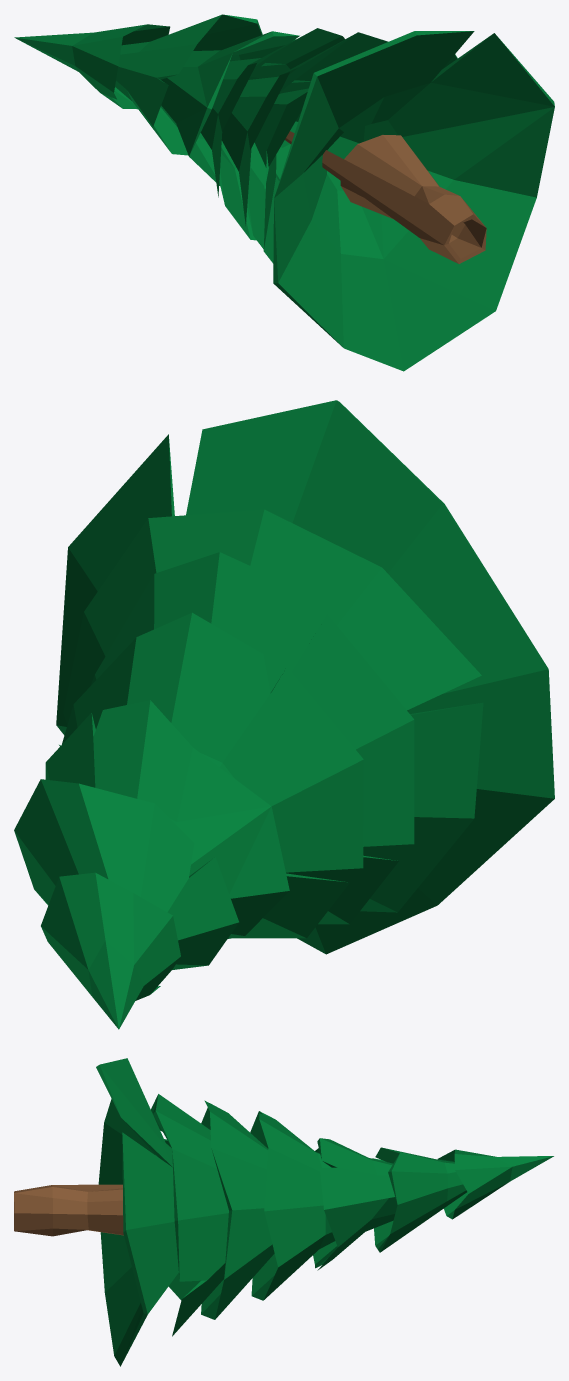
Rendered from Tree01.fbx.
3 views of the same model, one above another, from view 1: azimuth 30°, elevation 25°; view 2: azimuth 150°, elevation 25°; view 3: azimuth 270°, elevation 25° (orthographic). The views are drawn at different scales.
Visible parts, largest first — view 1: Circle; view 2: Circle; view 3: Circle.
Part boxes in pixels (x1,y1,x2,y2): Circle: (14,14,554,371); Circle: (14,400,554,1029); Circle: (14,1058,553,1366).
Size of the model in its own units: 171 by 192 by 322.
